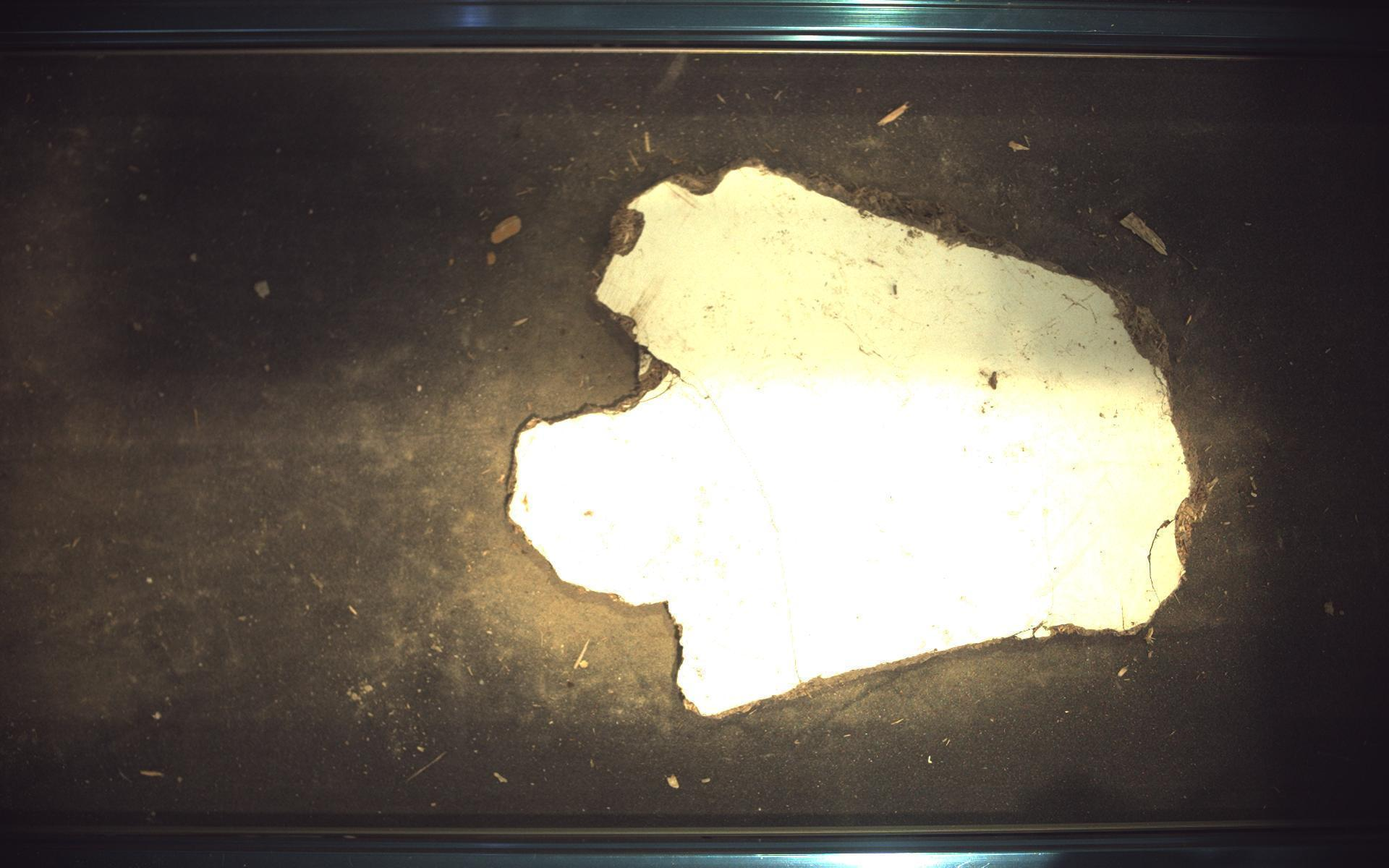wood: (509, 164, 1194, 716)
